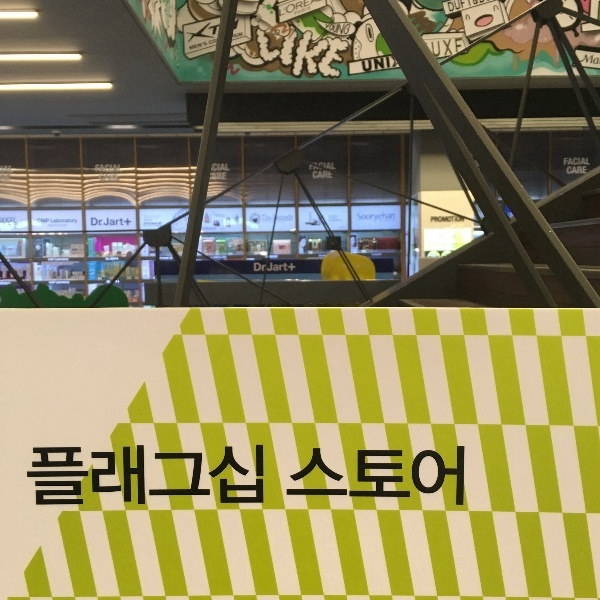text: (321, 442, 336, 509), (337, 442, 352, 509), (353, 442, 368, 509), (369, 442, 384, 509), (385, 442, 400, 509), (401, 442, 416, 509), (417, 442, 432, 509), (433, 442, 448, 509), (449, 442, 464, 509), (33, 443, 48, 508), (49, 443, 64, 508), (65, 443, 80, 508), (81, 443, 96, 508), (97, 443, 112, 508), (113, 443, 128, 508), (129, 443, 144, 508), (145, 443, 160, 508), (161, 443, 176, 508), (177, 443, 192, 508), (193, 443, 208, 508), (209, 443, 224, 508), (225, 443, 240, 508), (241, 443, 256, 508), (257, 23, 272, 86), (273, 23, 288, 86), (289, 23, 304, 86), (305, 23, 320, 86), (321, 23, 336, 86), (337, 23, 352, 86), (308, 442, 320, 509), (257, 443, 265, 508), (25, 443, 32, 508), (193, 18, 208, 45), (209, 18, 221, 45), (433, 37, 448, 58), (449, 37, 463, 58), (369, 57, 384, 74), (289, 1, 304, 18), (305, 1, 320, 18), (337, 22, 352, 37), (184, 18, 192, 45), (226, 62, 240, 77), (369, 210, 384, 224), (273, 261, 288, 274), (97, 163, 112, 175), (449, 1, 464, 13), (465, 1, 480, 13), (325, 22, 336, 37), (1, 220, 16, 231), (293, 3, 304, 17), (357, 210, 368, 224), (385, 210, 396, 224), (279, 1, 288, 18), (193, 41, 208, 51), (97, 217, 112, 227), (113, 217, 128, 227), (225, 218, 240, 228), (425, 37, 432, 58), (481, 1, 493, 13), (465, 442, 467, 509), (563, 156, 576, 166), (577, 156, 590, 166), (99, 173, 112, 183), (257, 261, 267, 274), (246, 217, 256, 230), (17, 220, 28, 231), (33, 218, 44, 229), (449, 216, 464, 224), (361, 57, 368, 74), (211, 172, 224, 181), (305, 3, 313, 17), (433, 216, 447, 224), (577, 165, 588, 175), (213, 162, 224, 172), (212, 172, 224, 181), (1, 217, 16, 224), (584, 53, 592, 66), (385, 57, 391, 74), (566, 165, 576, 175), (50, 218, 64, 225), (65, 218, 79, 225), (113, 163, 121, 175), (289, 261, 296, 274), (209, 254, 224, 260), (49, 223, 64, 229), (36, 217, 48, 224), (113, 173, 121, 183), (312, 170, 320, 180), (593, 53, 599, 66), (309, 164, 320, 171), (145, 222, 160, 227), (49, 258, 64, 263), (49, 280, 64, 285), (328, 171, 336, 180), (327, 162, 336, 170), (456, 215, 464, 224), (116, 279, 128, 285), (235, 17, 240, 31), (321, 170, 328, 180), (161, 256, 174, 261), (353, 23, 354, 86), (233, 31, 240, 40), (225, 162, 231, 172), (214, 212, 224, 218), (312, 161, 320, 168), (370, 253, 384, 257), (209, 38, 217, 45), (268, 261, 272, 274), (91, 217, 96, 227), (321, 161, 327, 168), (253, 261, 256, 274), (113, 257, 120, 262), (265, 254, 272, 259), (321, 1, 323, 18), (189, 41, 192, 51), (129, 217, 132, 227), (106, 257, 112, 262), (106, 280, 112, 285), (321, 253, 327, 258), (273, 254, 278, 260), (246, 258, 256, 261), (241, 31, 244, 40), (257, 217, 259, 230), (65, 258, 70, 263), (65, 280, 70, 285), (65, 223, 69, 229), (321, 164, 324, 171), (222, 218, 224, 228), (241, 218, 243, 228), (225, 172, 227, 181), (445, 216, 448, 222), (241, 62, 242, 77), (95, 163, 96, 175), (225, 212, 227, 218), (225, 254, 227, 260), (270, 254, 272, 260), (447, 1, 448, 13), (161, 222, 163, 227), (318, 253, 320, 258), (465, 215, 466, 224), (431, 216, 432, 224), (49, 217, 50, 224), (47, 223, 48, 229), (143, 222, 144, 227), (159, 256, 160, 261), (47, 258, 48, 263)
